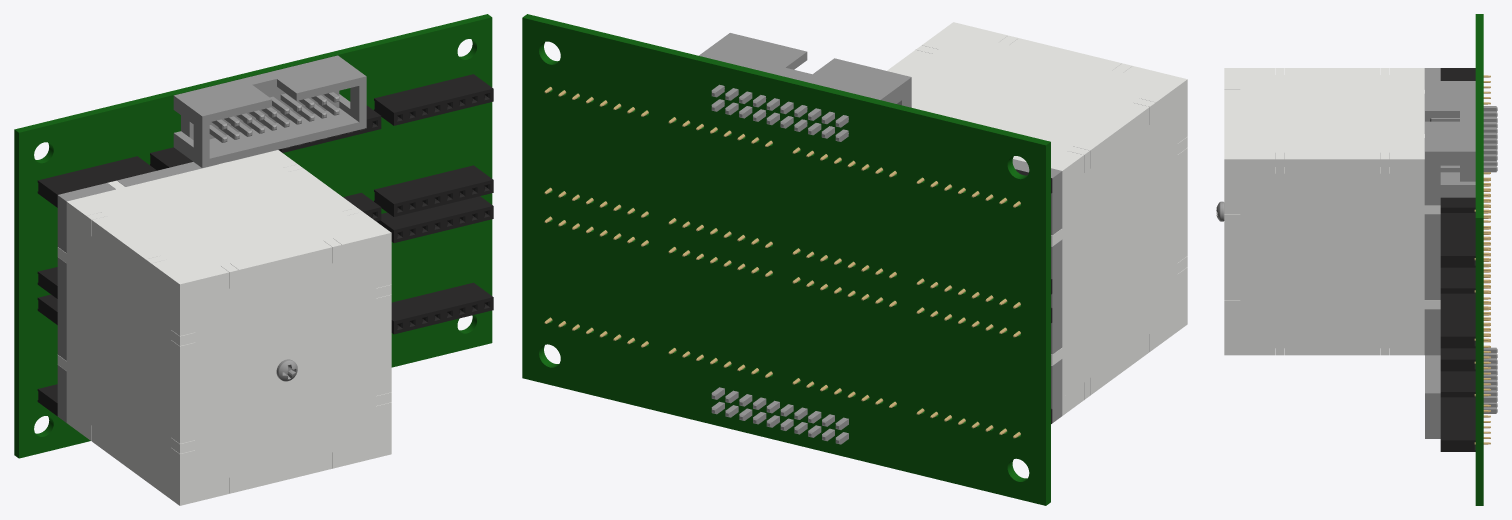
The model's file is expansion v3.fbx.
The picture shows the model from 3 angles, left to right: view 1: azimuth 30°, elevation 25°; view 2: azimuth 150°, elevation 25°; view 3: azimuth 270°, elevation 25°; orthographic projection. The views are drawn at different scales.
Parts seen in each view (by area): view 1: Body1 (×16); view 2: Body1 (×8); view 3: Body1 (×16).
Part boxes in pixels (x1,y1,x2,y2): Body1 (×16): [14, 14, 493, 505]; Body1 (×8): [522, 14, 1187, 505]; Body1 (×16): [1224, 14, 1497, 505].
Size of the model in its own units: 96.52 by 63.5 by 56.19.
